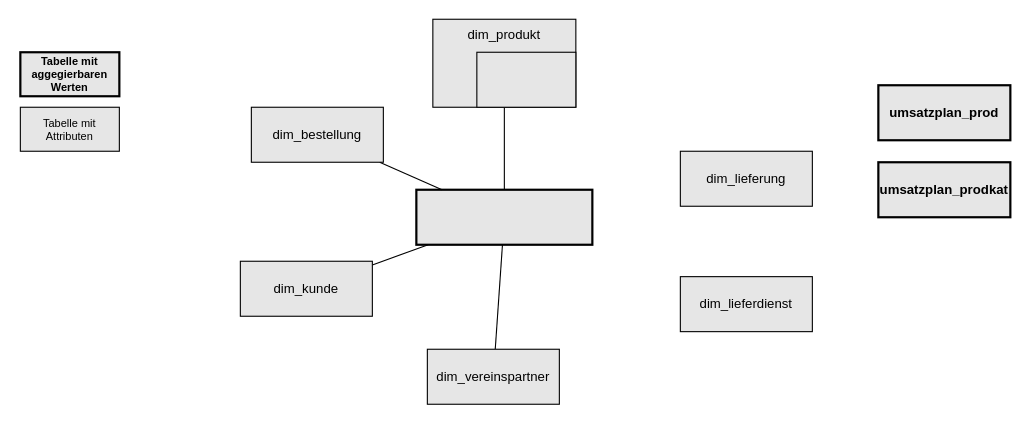
Some shapes in this 1030 by 424 pixel diagram are drawn without their labels. The shapes that lost their labels are listed below. From the top down, each one's centre as x and y in pixels, then its label:
At (526,79): "Kategorie hierarchie".
At (504,216): "f_produktumsatz".
